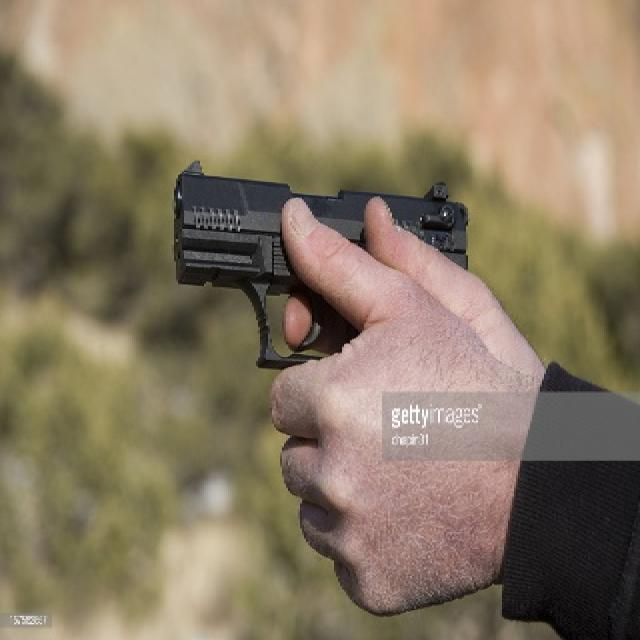handgun: (143, 149, 487, 368)
